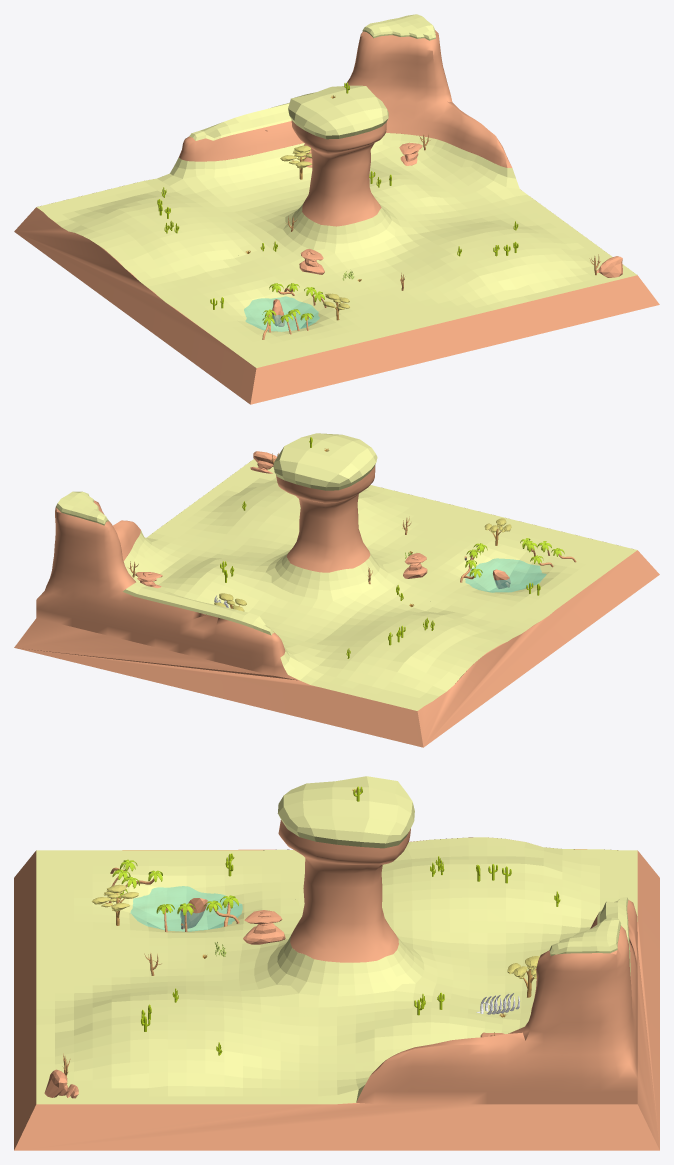
The model's file is valle.glb.
3 renders of one model, top to bottom at view 1: azimuth 30°, elevation 25°; view 2: azimuth 150°, elevation 25°; view 3: azimuth 270°, elevation 25°, orthographic. The views are drawn at different scales.
Visible parts, largest first — view 1: Cube.003, Cube, Plane; view 2: Cube.003, Cube, Plane, Icosphere_013; view 3: Cube.003, Cube, Plane, Icosphere_013, Icosphere_025, Icosphere_013.002, Icosphere_025.001.
Boxes of the visible parts, box(x1,y1,x2,y2) form: Cube.003: box(36, 14, 637, 367); Cube: box(14, 30, 659, 404); Plane: box(244, 296, 319, 331); Cube.003: box(56, 433, 637, 710); Cube: box(14, 465, 659, 747); Plane: box(465, 558, 546, 592); Icosphere_013: box(403, 553, 427, 578); Cube.003: box(36, 776, 637, 1104); Cube: box(14, 820, 659, 1150); Plane: box(130, 886, 242, 931); Icosphere_013: box(243, 910, 285, 944); Icosphere_025: box(92, 884, 138, 925); Icosphere_013.002: box(44, 1069, 78, 1098); Icosphere_025.001: box(507, 956, 539, 997).
Bounding box in the file's own units: 2.21 × 0.9058 × 2.21.
